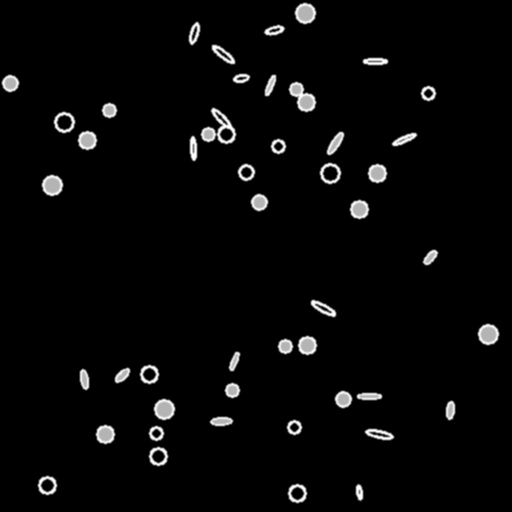pseudomonas: (210, 43, 236, 65), (309, 299, 337, 317), (325, 131, 345, 155), (211, 107, 231, 129), (392, 132, 416, 146), (366, 428, 392, 440), (188, 22, 200, 44), (422, 249, 438, 265), (114, 367, 130, 383), (264, 24, 284, 36), (264, 75, 276, 95), (228, 352, 240, 370), (211, 417, 231, 425), (233, 73, 249, 83), (190, 136, 196, 160), (80, 370, 88, 388), (446, 402, 454, 418), (355, 484, 363, 500), (364, 59, 386, 64), (358, 394, 380, 399)
synechocystis: (55, 113, 73, 131), (155, 400, 173, 418), (296, 4, 314, 22), (43, 176, 61, 194), (321, 164, 339, 182), (479, 325, 497, 343), (97, 426, 113, 442), (289, 485, 305, 501), (351, 201, 367, 217), (141, 366, 157, 382), (298, 94, 314, 110), (299, 337, 315, 353), (369, 165, 385, 181), (79, 132, 95, 148), (150, 448, 166, 464), (39, 477, 55, 493), (218, 126, 234, 142), (3, 76, 17, 90), (252, 195, 266, 209), (336, 392, 350, 406), (239, 165, 253, 179), (279, 340, 291, 352), (288, 421, 300, 433), (202, 128, 214, 140), (103, 104, 115, 116), (290, 83, 302, 95), (150, 427, 162, 439), (272, 140, 284, 152), (226, 384, 238, 396), (422, 87, 434, 99)
